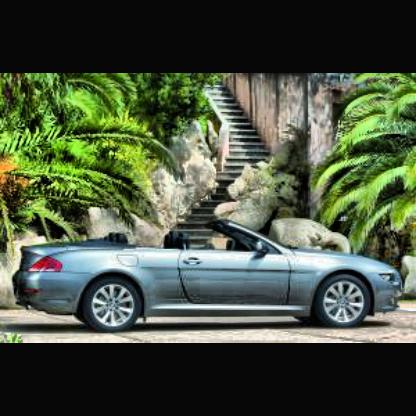BMW 6 Series Convertible 2007: (16, 217, 407, 329)
